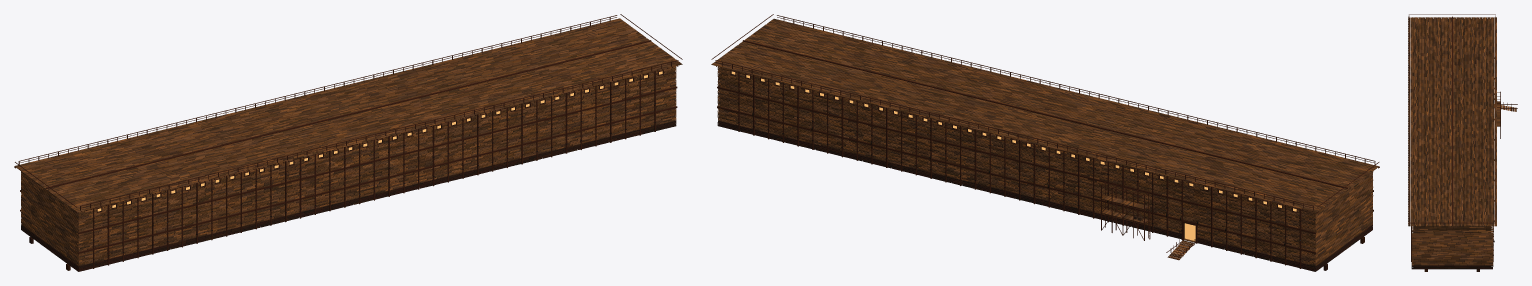
Rendered from ark.glb.
3 views of the same model, side by side, from view 1: azimuth 30°, elevation 25°; view 2: azimuth 150°, elevation 25°; view 3: azimuth 270°, elevation 25° (orthographic). The views are drawn at different scales.
Visible parts, largest first — view 1: hull, glow; view 2: hull, glow; view 3: hull.
Boxes of the visible parts, x1,y1,x2,y2 form: hull: (14,14,682,271); glow: (97,71,662,211); hull: (711,14,1379,271); glow: (731,71,1296,240); hull: (1408,14,1517,271).
Size of the model in its own units: 135 by 15.62 by 30.04.
